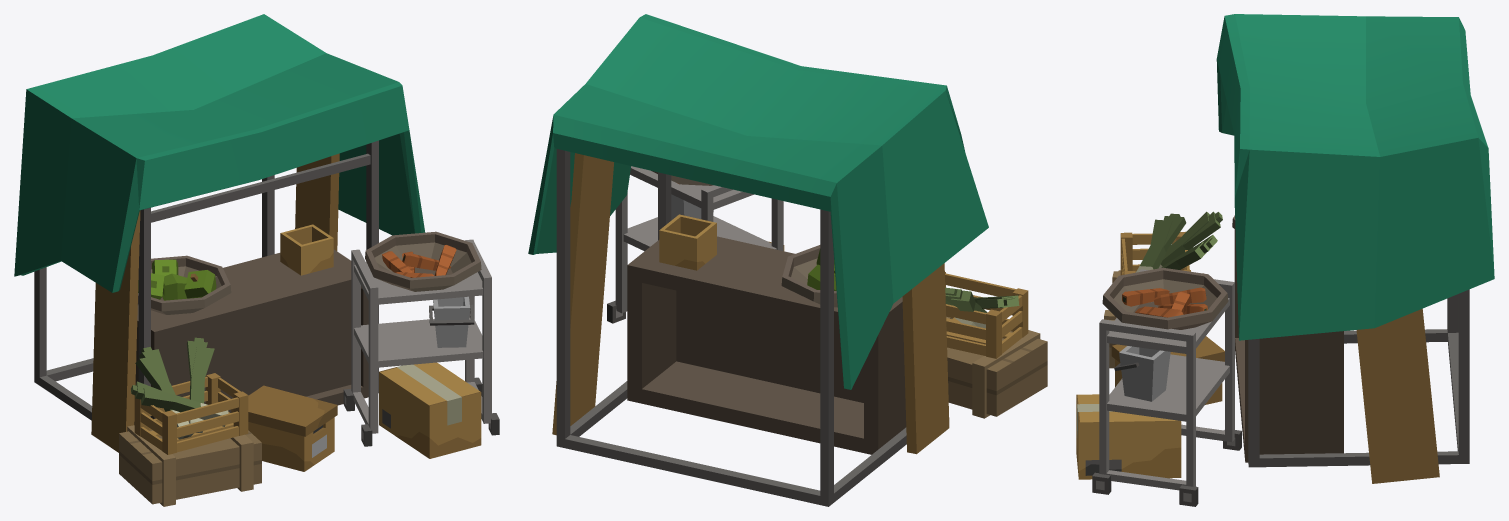
The model's file is AI_Prop_Shop_Food_01.fbx.
3 views of the same model, side by side, from view 1: azimuth 30°, elevation 25°; view 2: azimuth 150°, elevation 25°; view 3: azimuth 270°, elevation 25° (orthographic). The views are drawn at different scales.
Parts seen in each view (by area): view 1: AI_Prop_Shop_Food_01; view 2: AI_Prop_Shop_Food_01; view 3: AI_Prop_Shop_Food_01.
Part boxes in pixels (bbox=[...]): AI_Prop_Shop_Food_01: bbox=[14, 14, 499, 506]; AI_Prop_Shop_Food_01: bbox=[528, 14, 1047, 506]; AI_Prop_Shop_Food_01: bbox=[1076, 14, 1494, 506].
Size of the model in its own units: 4.55 by 3.78 by 4.23.
